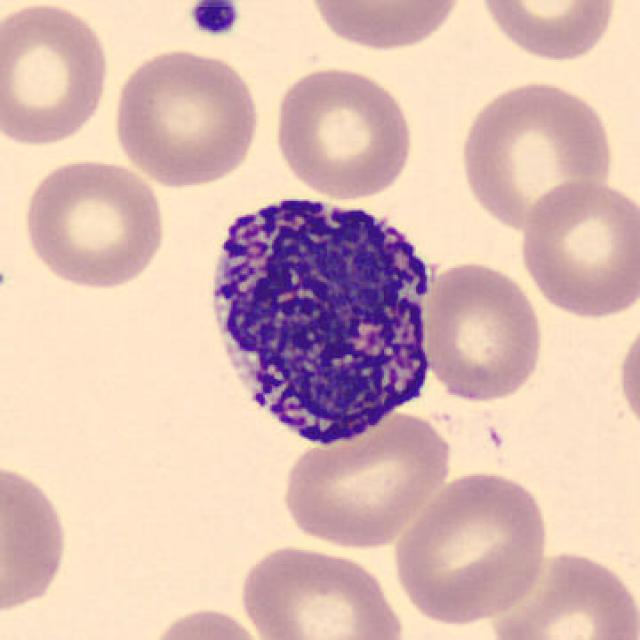Basophil: (192, 180, 448, 456)
Platelets: (185, 0, 243, 39), (0, 261, 9, 301)
RBC: (387, 467, 553, 628), (277, 404, 457, 552), (455, 76, 619, 236), (109, 44, 263, 190), (268, 61, 418, 202), (18, 153, 169, 293), (418, 258, 548, 406), (516, 176, 638, 321), (235, 541, 409, 640), (0, 0, 114, 150), (487, 546, 638, 640), (0, 455, 73, 620), (474, 0, 620, 63), (304, 0, 468, 53), (139, 603, 272, 640), (613, 310, 640, 442)
